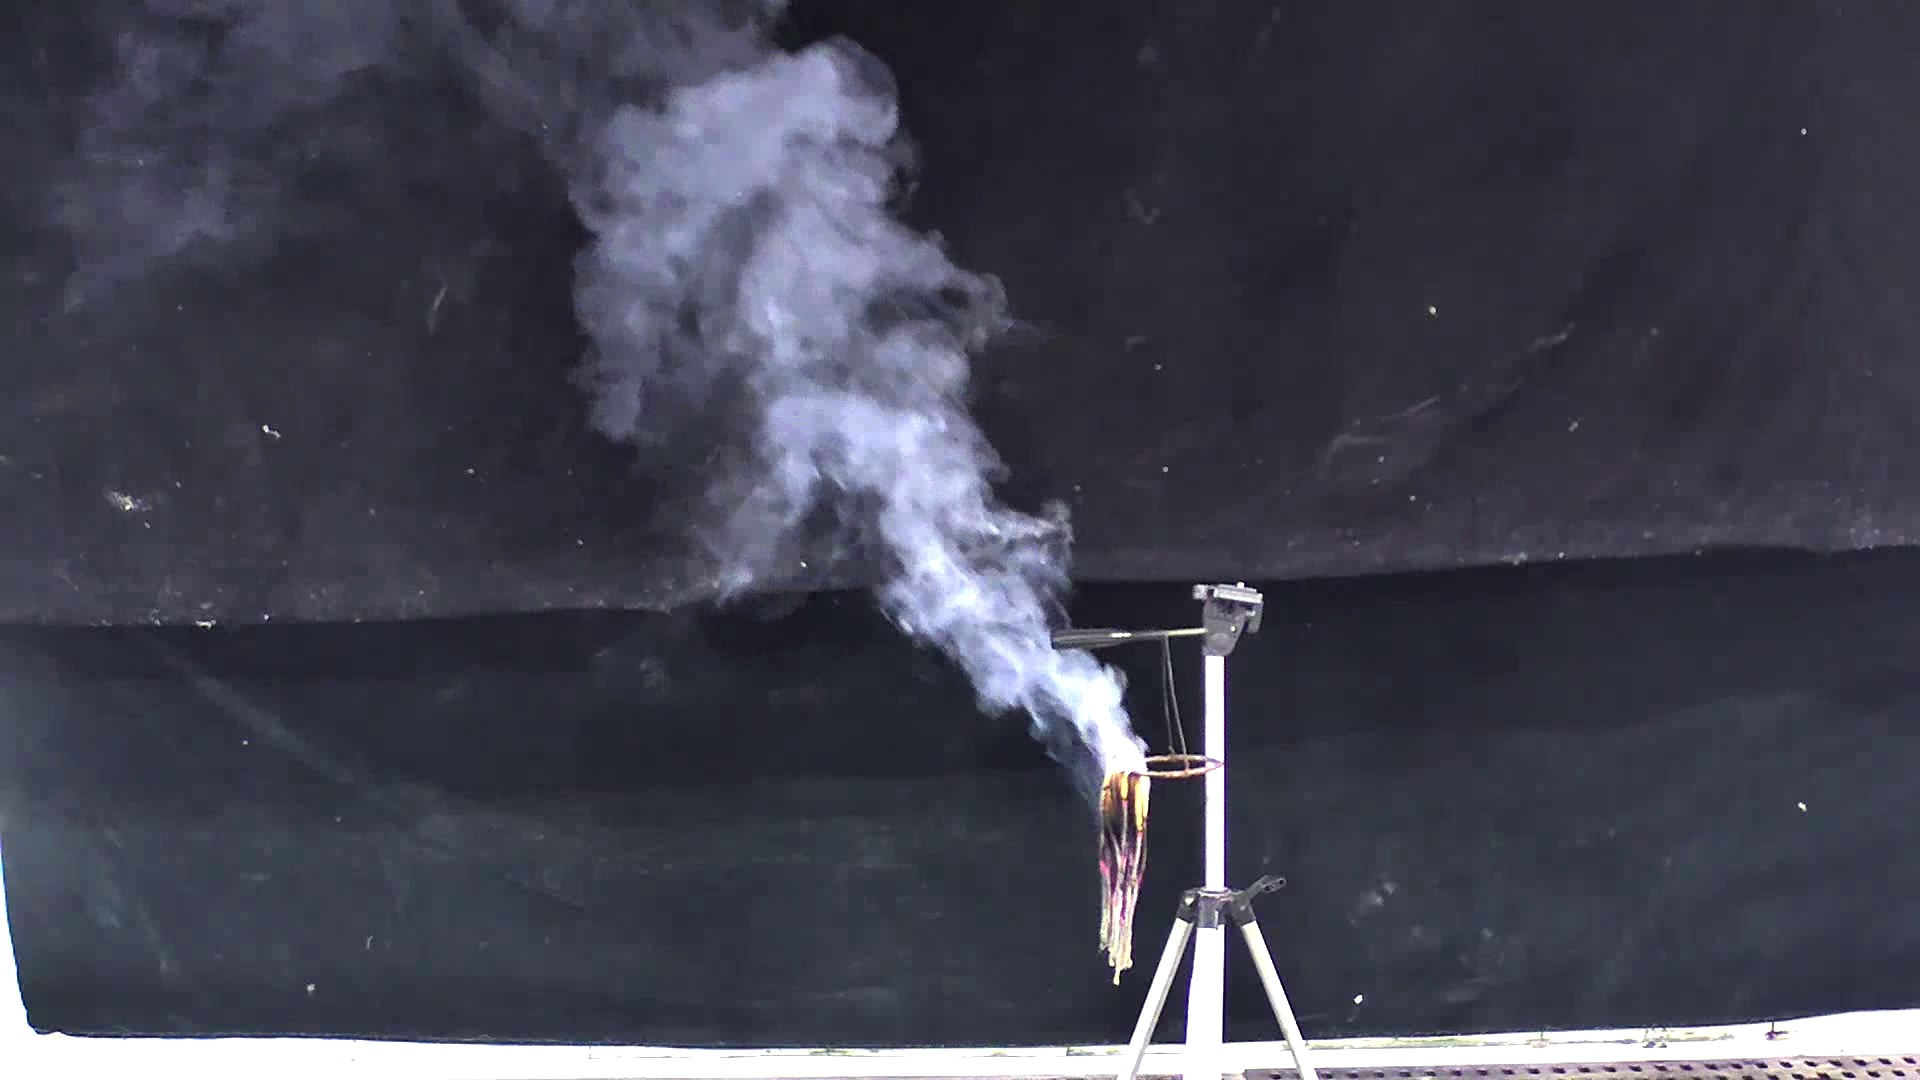smoke: (527, 32, 1129, 757)
